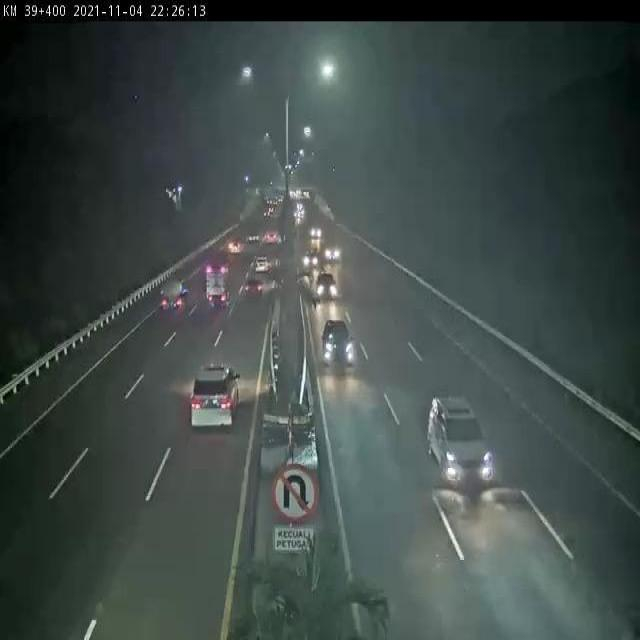big truck: (306, 247, 315, 273)
car: (428, 393, 500, 507), (196, 354, 238, 442), (323, 313, 363, 372), (321, 268, 341, 301), (257, 249, 271, 283), (245, 275, 261, 300), (329, 246, 346, 266), (231, 234, 245, 258), (312, 229, 328, 240)
truck-l-: (158, 258, 186, 330)
truck-m-: (204, 256, 230, 309)
